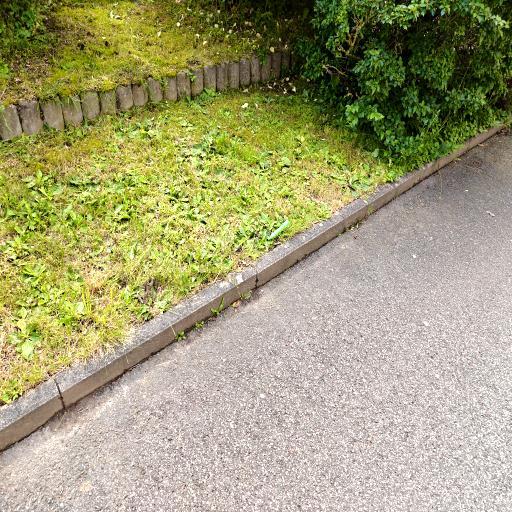Probe-Detection: (268, 220, 289, 240)
